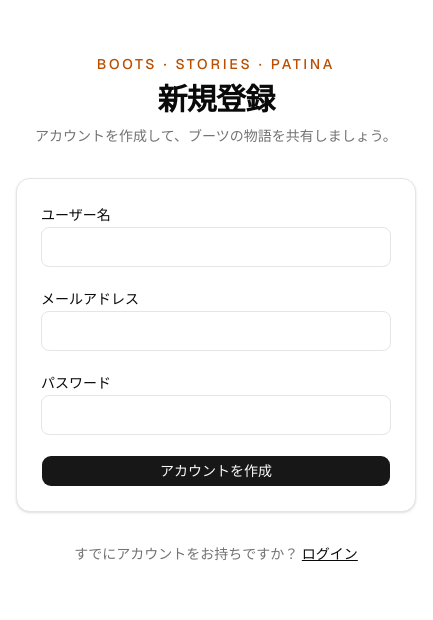
it: RegisterPage › shows validation errors and does not submit empty fields
This screenshot has width=433, height=620.
Click the button "アカウントを作成" at (216, 471), box [41,455,391,487]
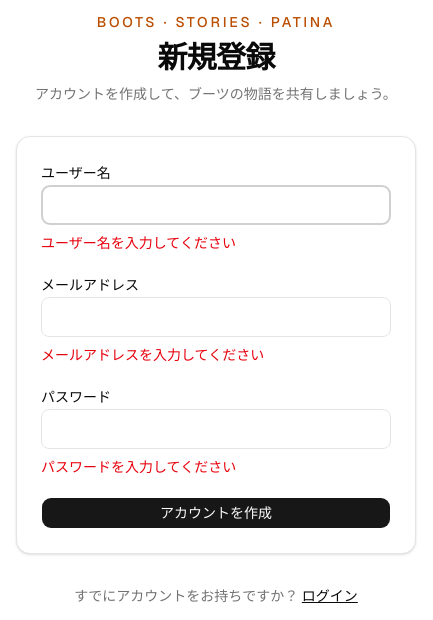
Expected: the text "ユーザー名を入力してください" is shown, [41,234,236,252]
Expected: the text "メールアドレスを入力してください" is shown, [41,346,264,364]
Expected: the text "パスワードを入力してください" is shown, [41,458,236,476]
